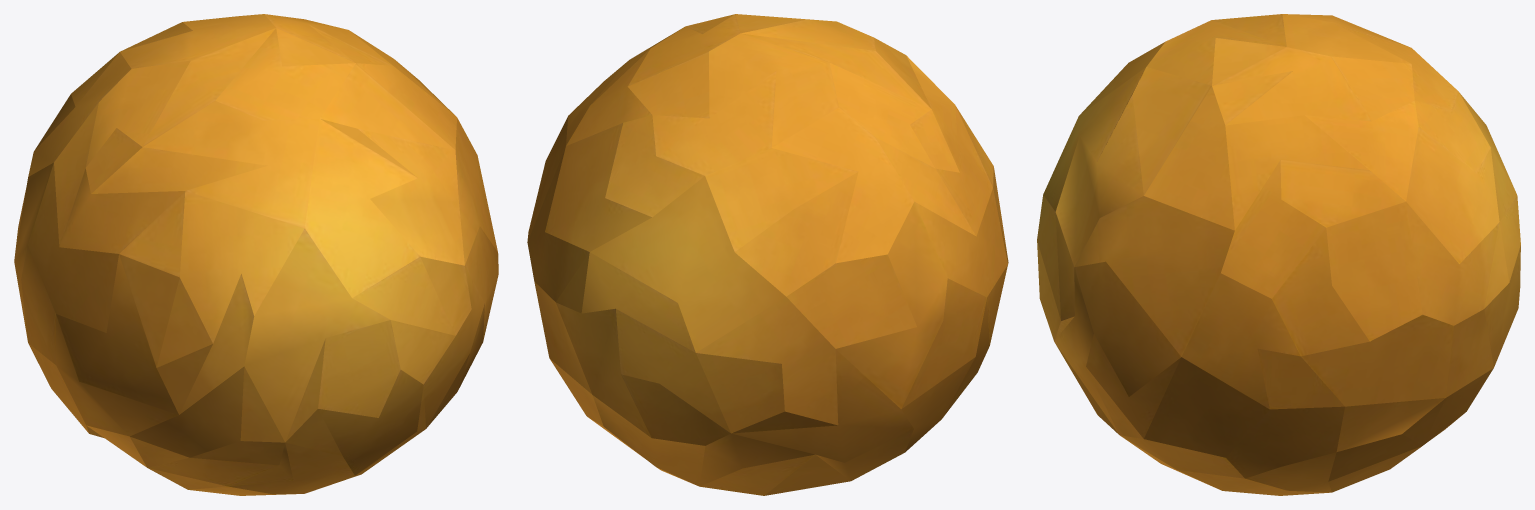
Rendered from orbe-de-numero.glb.
The picture shows the model from 3 angles, left to right: view 1: azimuth 30°, elevation 25°; view 2: azimuth 150°, elevation 25°; view 3: azimuth 270°, elevation 25°; orthographic projection.
Parts seen in each view (by area): view 1: Mesh_0; view 2: Mesh_0; view 3: Mesh_0.
Boxes of the visible parts, <box> form: Mesh_0: <box>14,14,498,495</box>; Mesh_0: <box>527,14,1008,495</box>; Mesh_0: <box>1037,14,1520,495</box>.
Size of the model in its own units: 1.89 by 1.89 by 1.89.
Materials: 1 (1 with a texture image).
